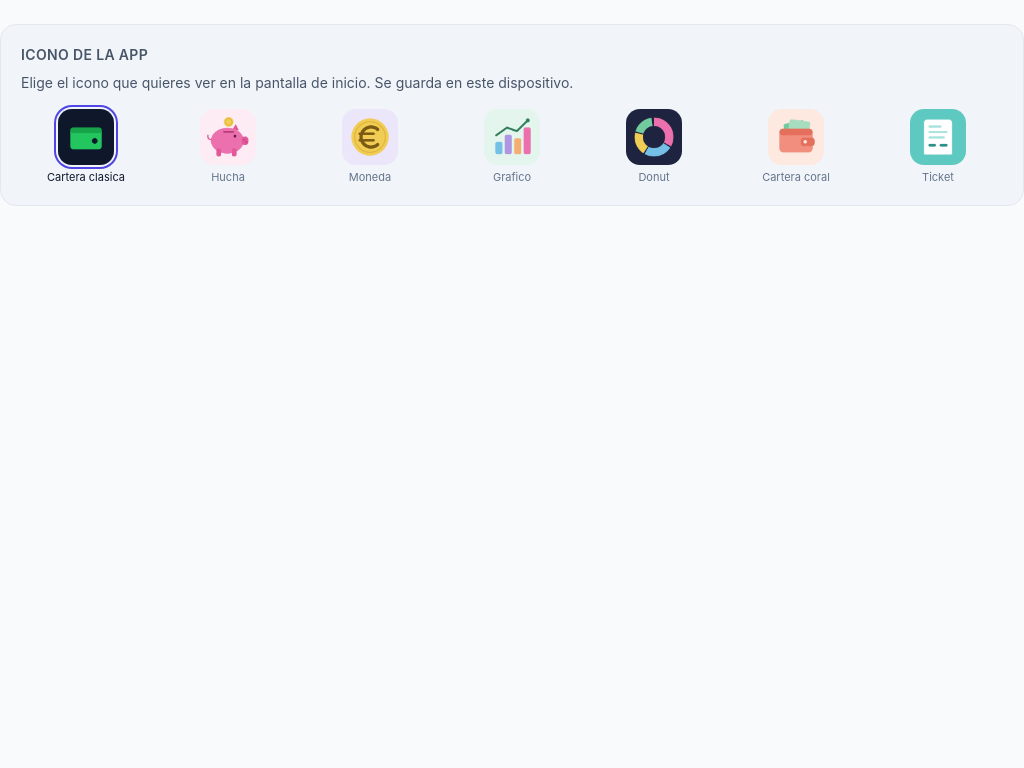
Test: AppIconSection › al elegir otro icono lo guarda y explica como reinstalar avisando de los datos
This screenshot has width=1024, height=768.
Expected: the text "se borran sus datos" is not shown
Step 1. Click the radio button labelled "Hucha" → (228, 147), box [163,109,293,185]
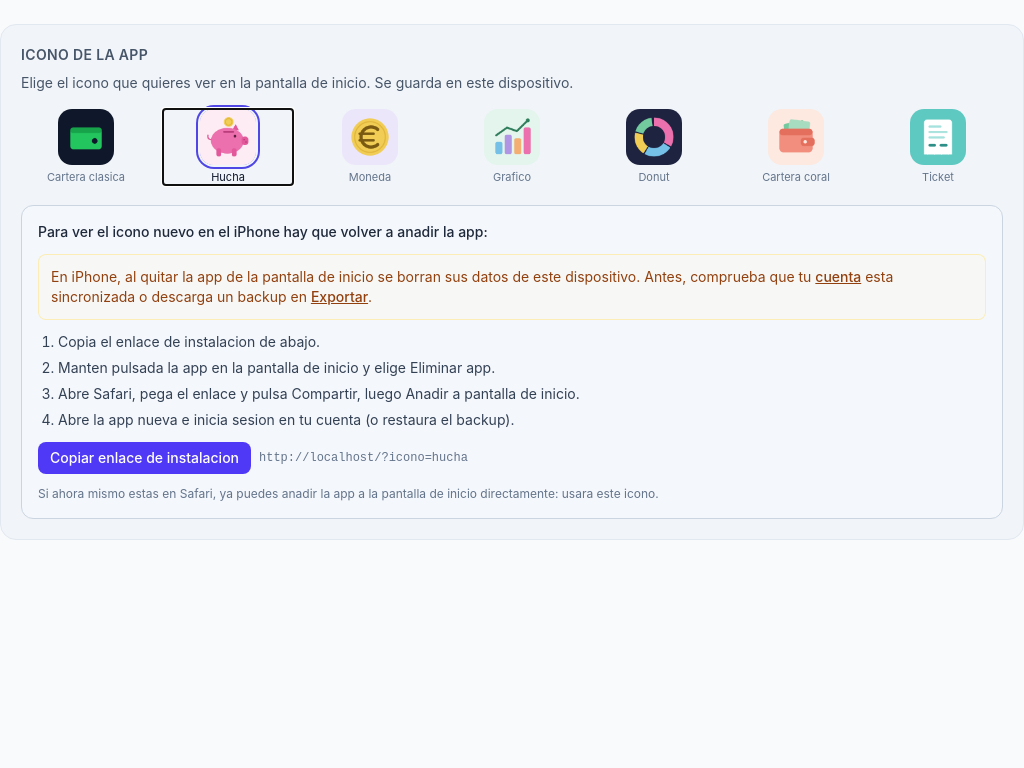
Result: the text "se borran sus datos" is shown at [51,268,811,285]
Result: the text "?icono=hucha" is shown at [259,451,468,465]
